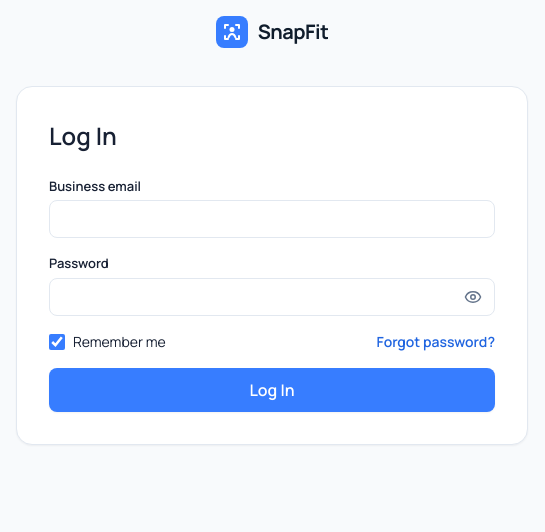
login routing by role › shows the suspension message on the login form
The width and height of the screenshot is (545, 532).
In the field labelled "Business email": coordinates (272, 219) [49,200,495,238], type "user@test.com"
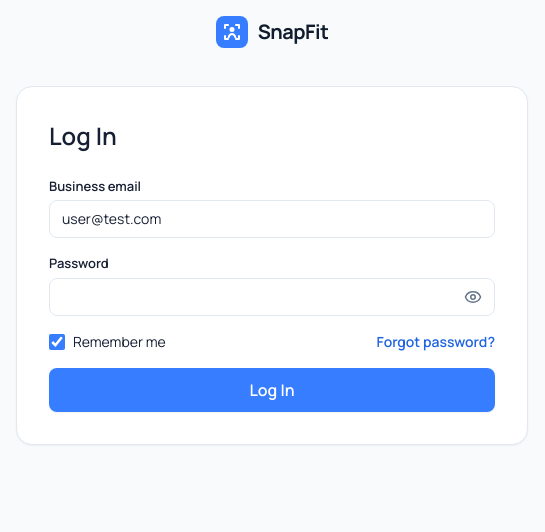
In the password field labelled "Password": coordinates (272, 297) [49,278,495,316], type "secret123"
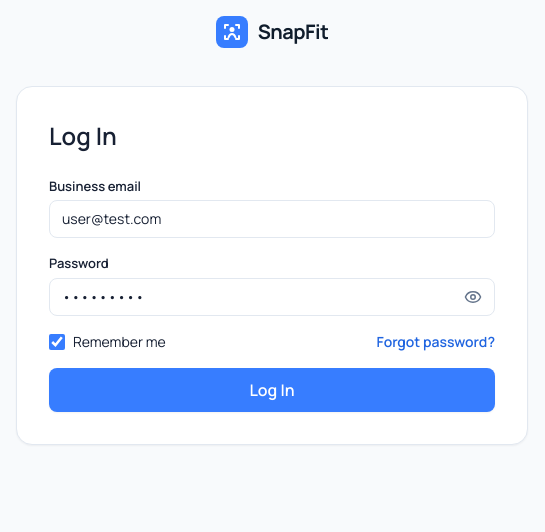
Click the button "Log In": coordinates (272, 390) [49,368,495,412]
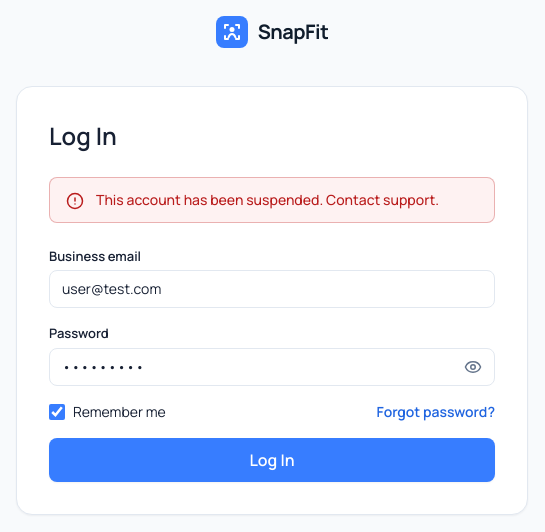
Check: the text "This account has been suspended. Contact support." is shown, box [96,190,439,210]
